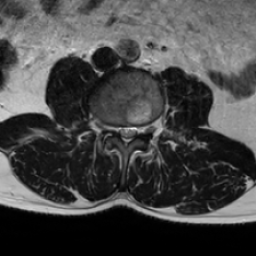CCS_normal: (122, 119, 130, 150)
LFS_normal: (138, 117, 147, 139)
LLS_normal: (130, 117, 138, 145)
RFS_stenosis: (107, 116, 116, 143)
RLS_severe_stenosis: (116, 119, 122, 143)
